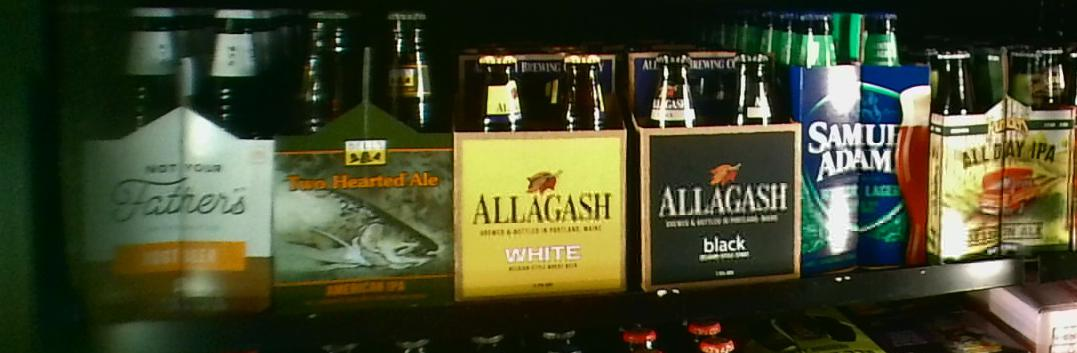bottle: (94, 1, 272, 318), (277, 8, 456, 300), (623, 43, 802, 287), (458, 40, 625, 295), (789, 9, 930, 274), (931, 40, 1077, 254)
